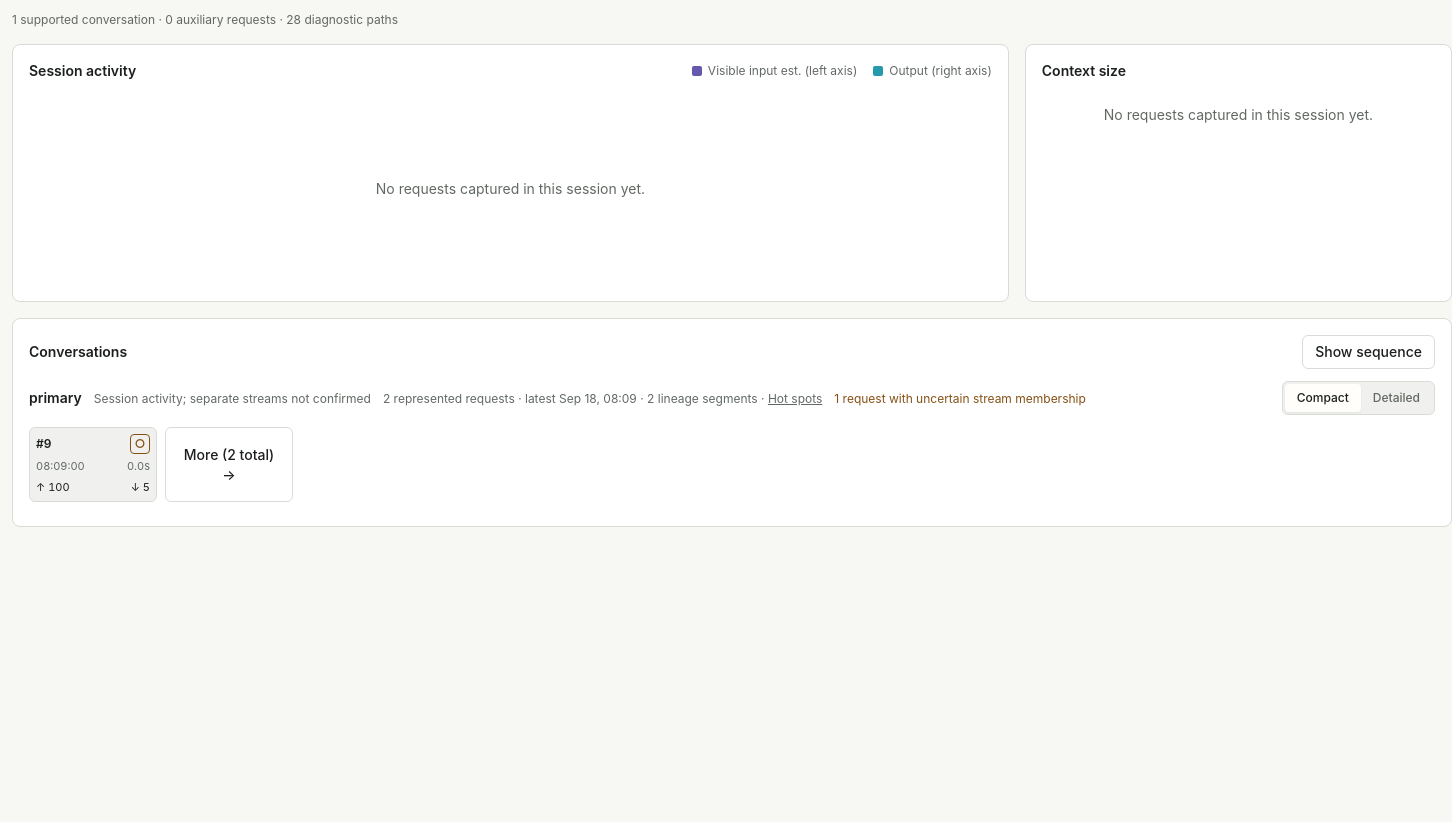
session conversation sequences › keeps diagnostic paths out of the group count
Click the button "Detailed": (1396, 398) [1361, 384, 1432, 412]
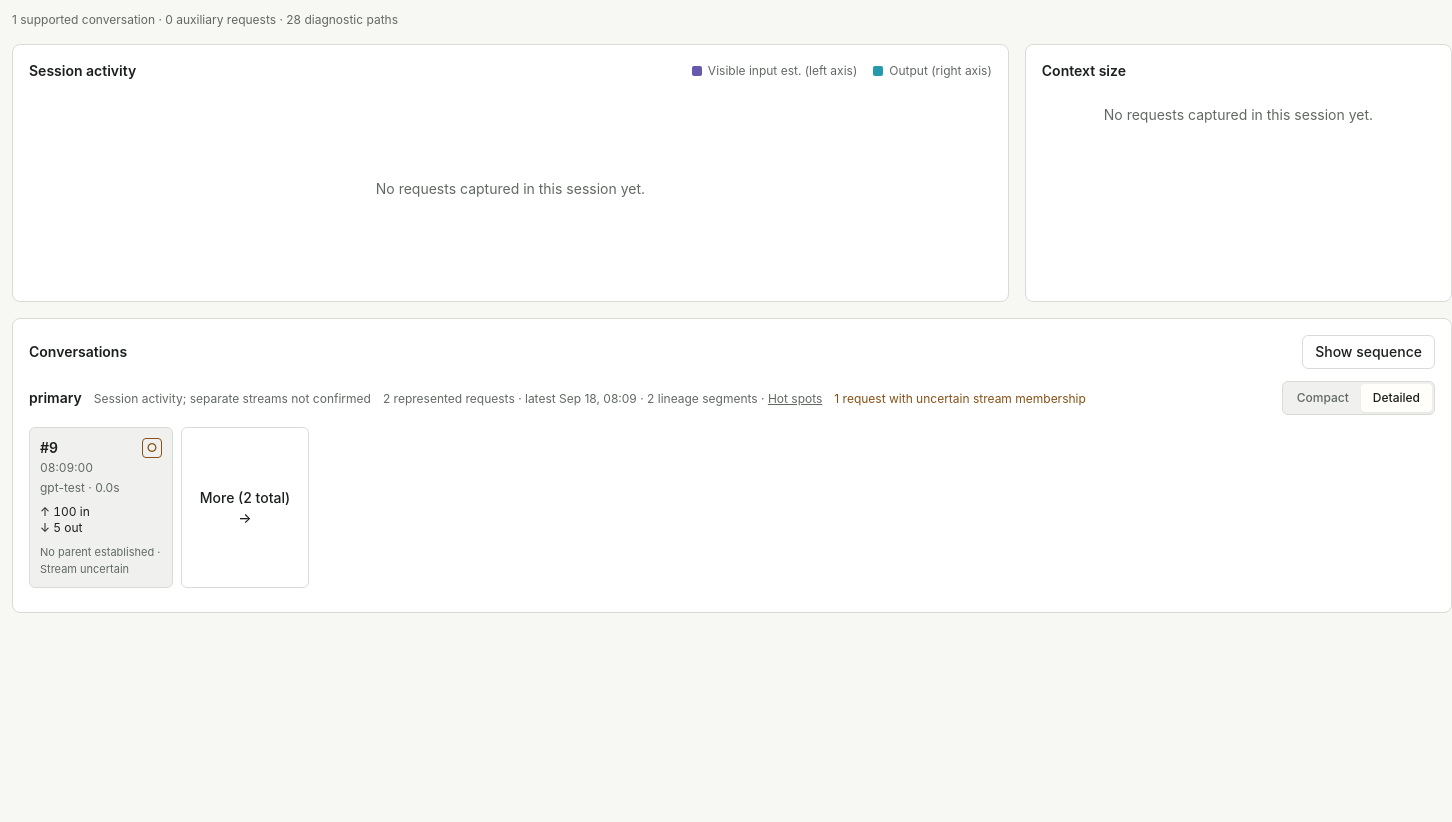
Expected: the text "1 supported conversation · 0 auxiliary requests · 28 diagnostic paths" is shown, [12, 12, 398, 27]
Hover over the text "○": (152, 448) [142, 438, 162, 458]
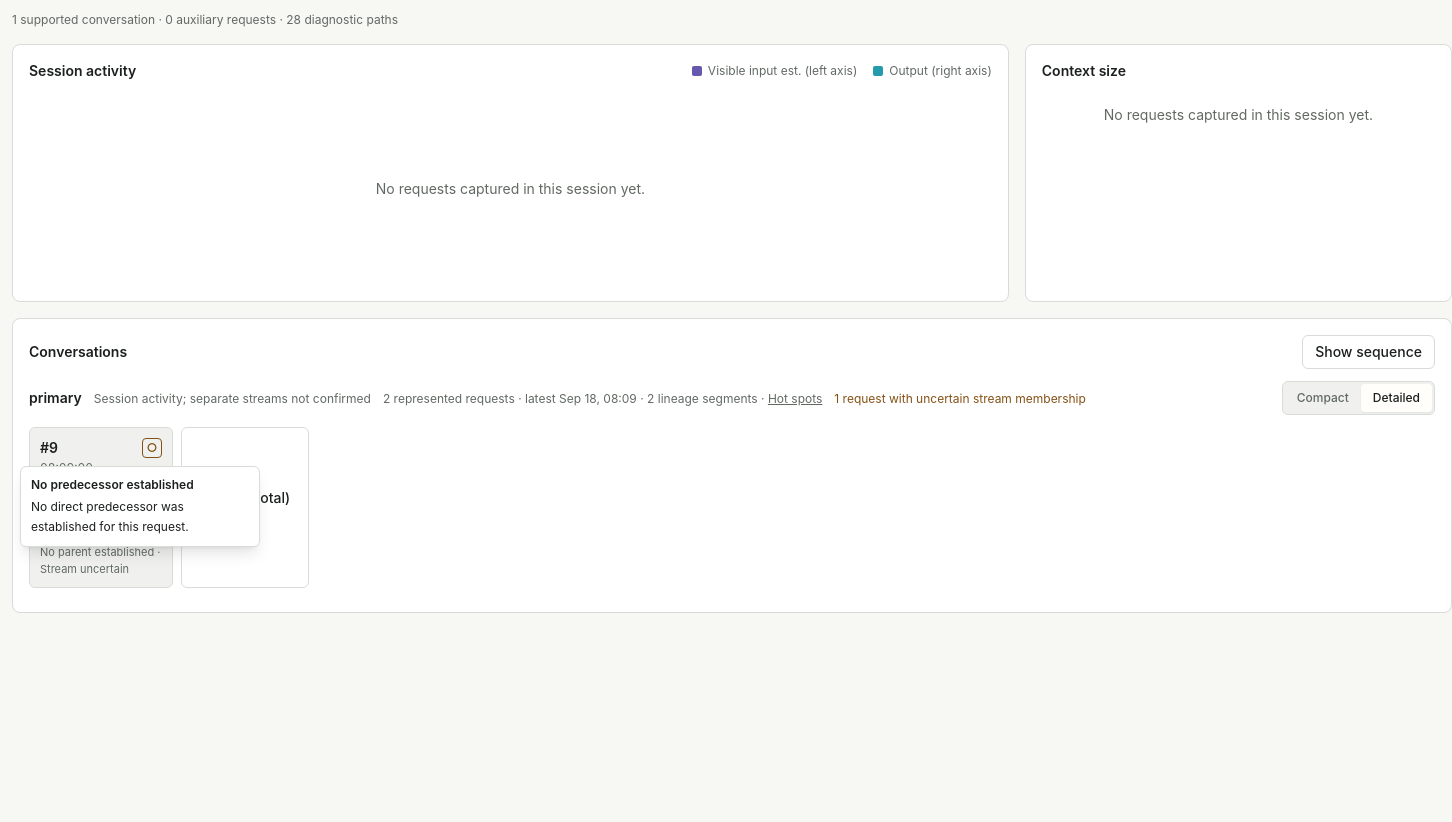
Expected: the button named "stream membership uncertain" is shown, [29, 427, 173, 588]
Expected: the tooltip shows "No direct predecessor was established", [31, 499, 189, 534]
